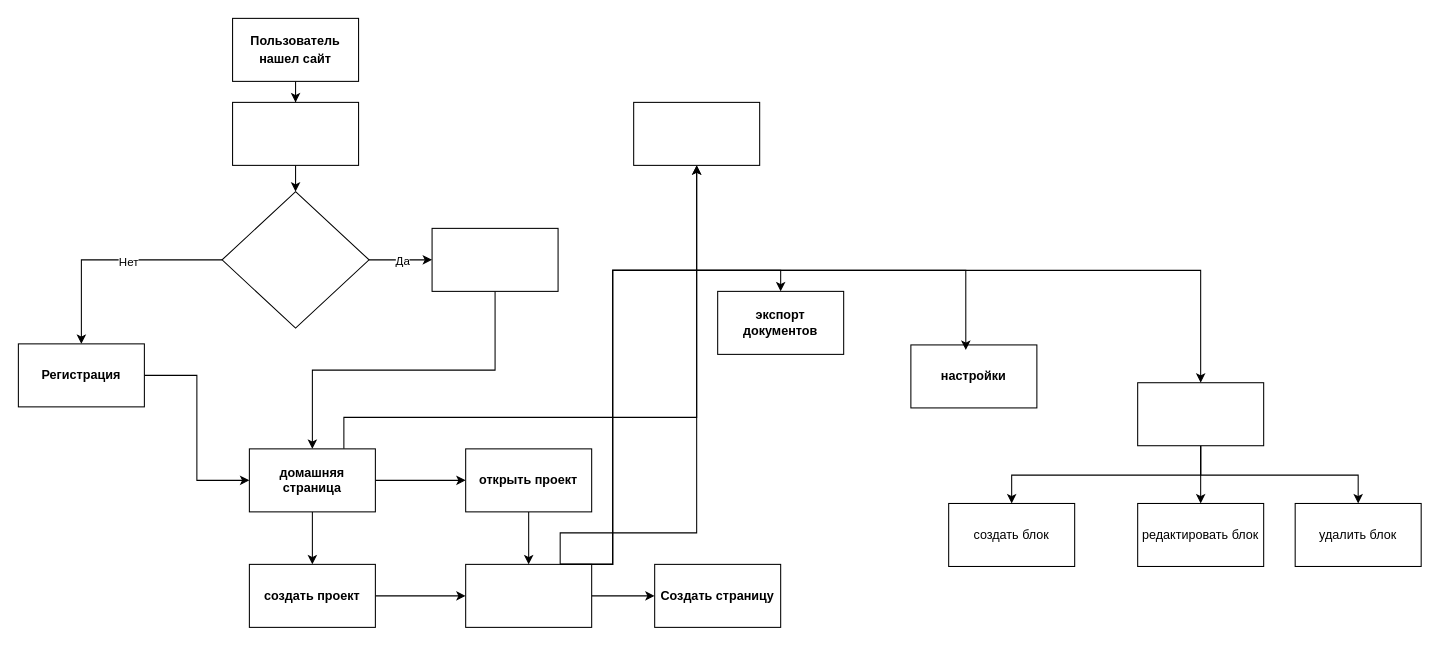
This 1440x646 diagram has some shape labels left out. Here are the shapes that lost their labels. From the top down, the centre of each, then its label:
the point at 295,133: Переход на сайт приложения:
the point at 696,133: Выйти
the point at 295,259: Пользователь зарегестрирован?
the point at 494,259: Войти
the point at 1200,414: редактор блоков
the point at 528,595: страница
